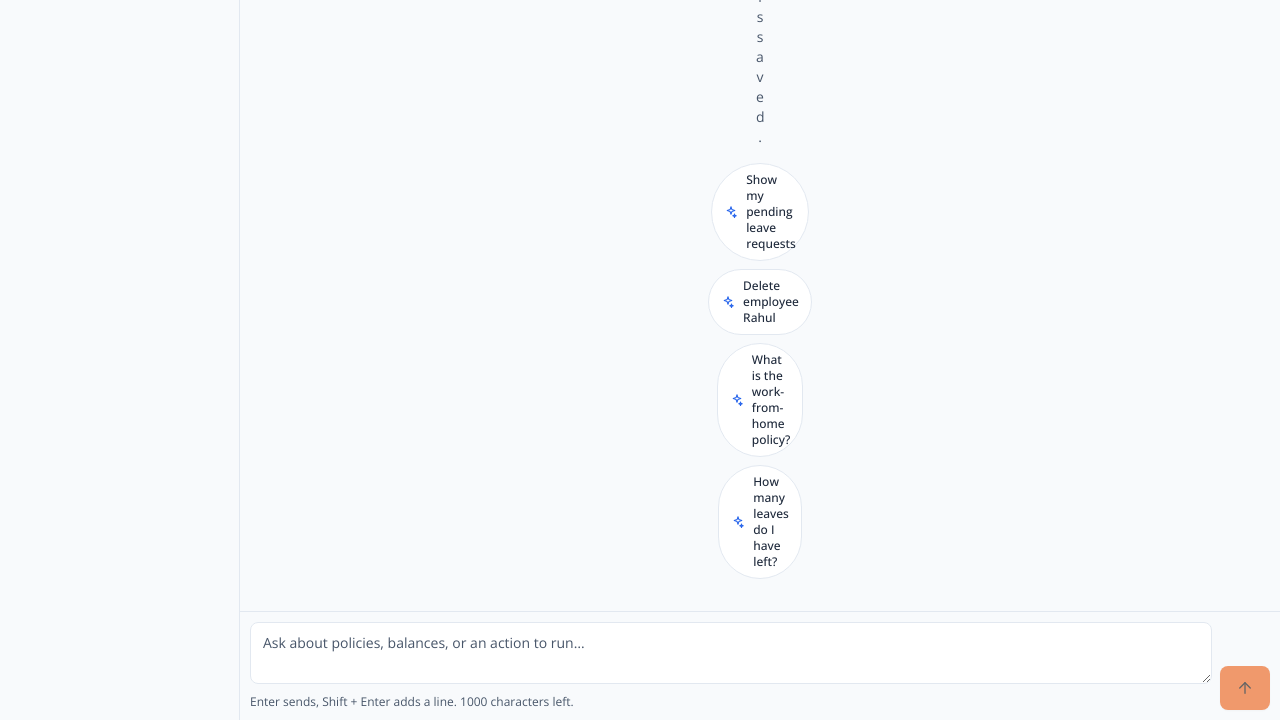
it: AI chat panel — states and navigation › surfaces a failure with a retry that re-runs the request
(page scrolled)
In the text box named "message the hr assistant": (731, 653) [250,622,1212,684], type "simulate an error"
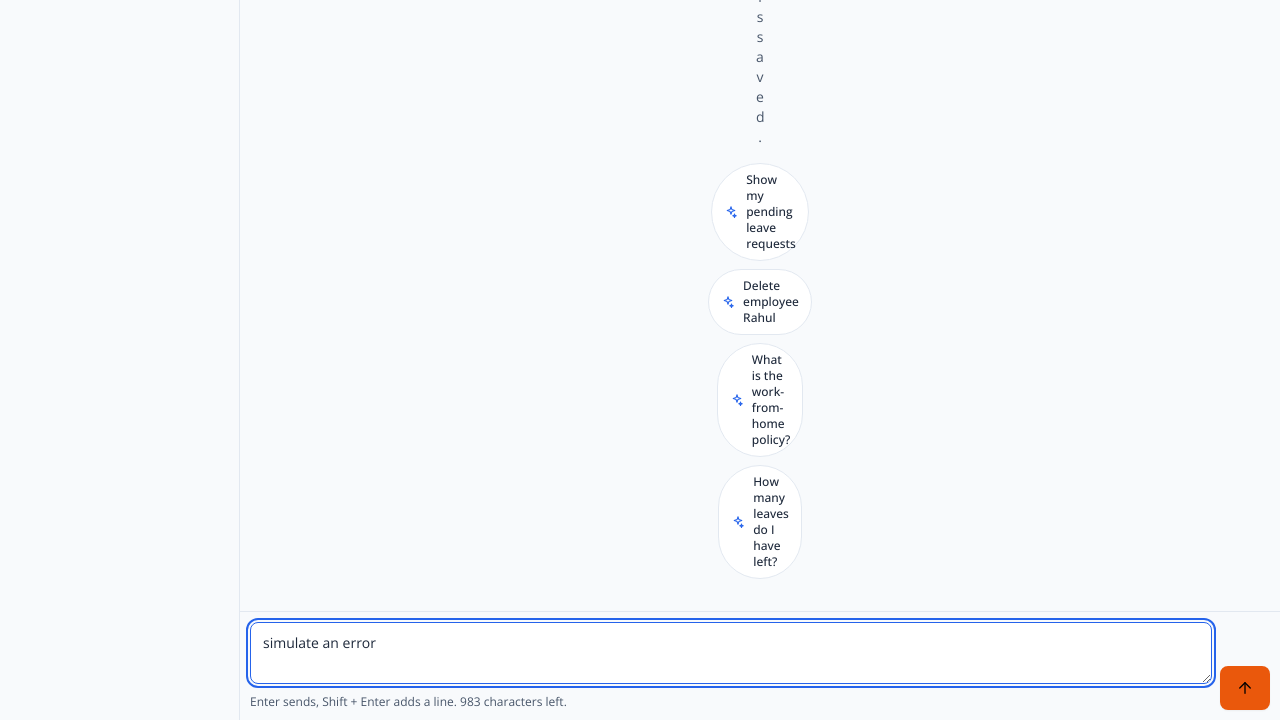
Click the button named "send message": (1245, 688) [1220,666,1270,710]
(page scrolled)
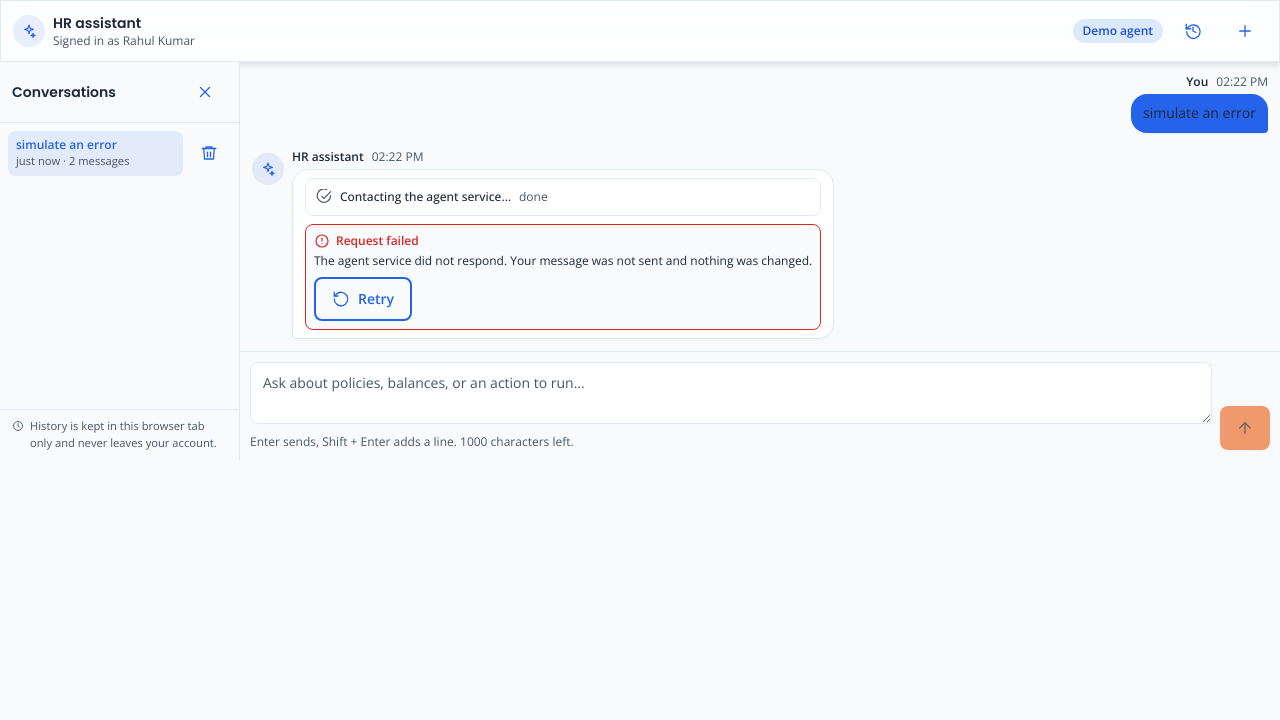
Expected: the message shows "agent service did not respond", [314,252,812,269]
Click the button "Retry": (363, 299) [314,277,412,321]
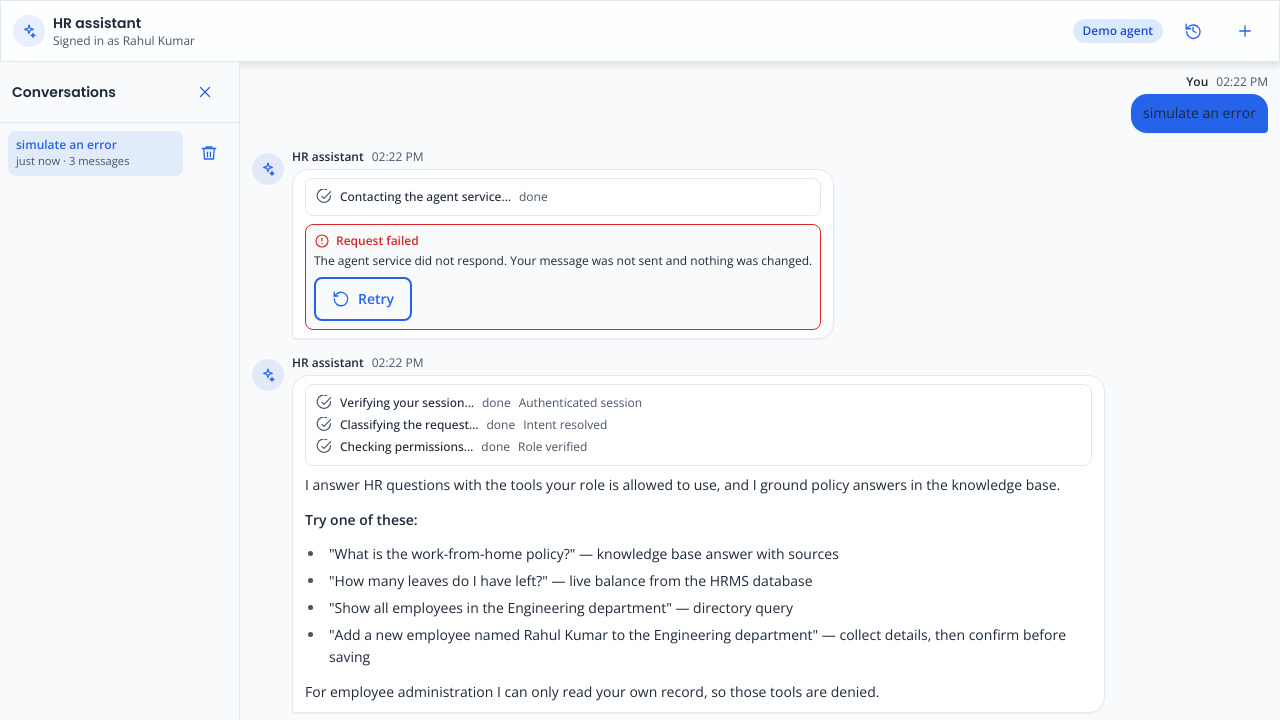
Expected: the text "I answer HR questions with the tools your role is allowed to use" is shown, [305,475,1060,494]
